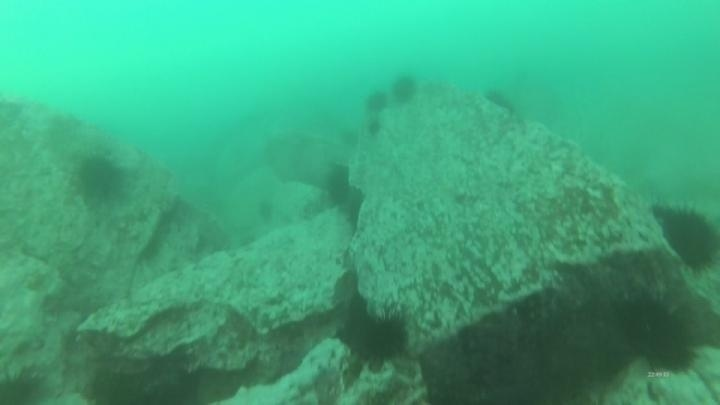echinus: (612, 291, 700, 374), (655, 203, 719, 274), (355, 309, 411, 366), (74, 152, 127, 204), (335, 311, 379, 356), (0, 367, 50, 404), (322, 163, 354, 208), (339, 184, 368, 229), (483, 86, 518, 117), (389, 73, 419, 106), (363, 88, 390, 115), (255, 198, 277, 224), (337, 127, 361, 150), (364, 117, 384, 139)
